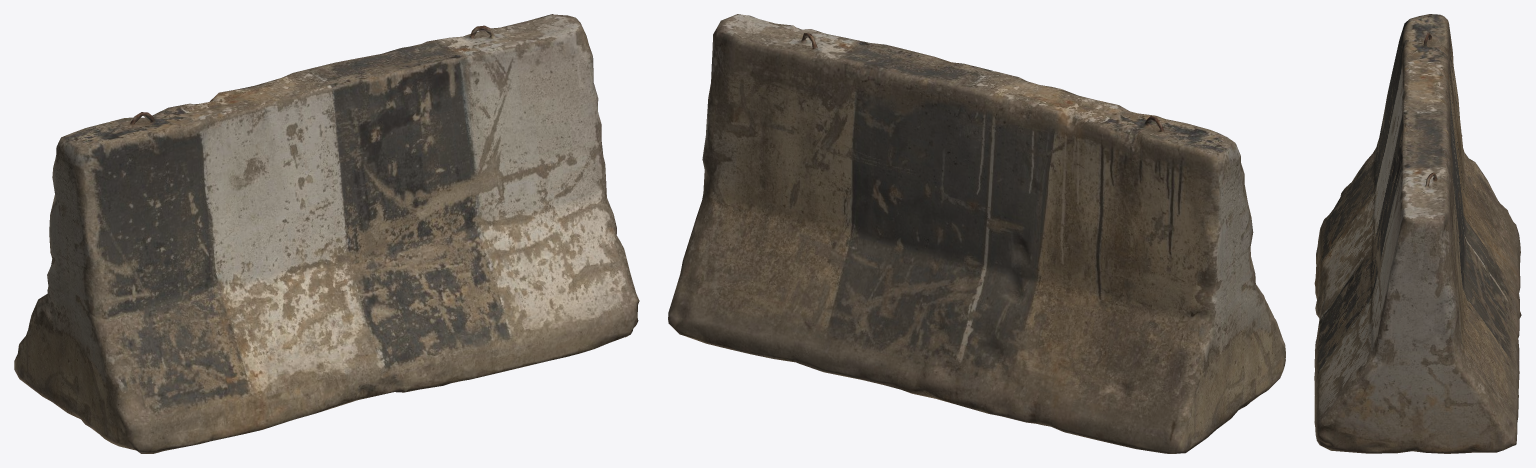
File: barrier.glb
3 views of the same model, side by side, from view 1: azimuth 30°, elevation 25°; view 2: azimuth 150°, elevation 25°; view 3: azimuth 270°, elevation 25° (orthographic). The views are drawn at different scales.
Visible parts, largest first — view 1: barrier; view 2: barrier; view 3: barrier.
Boxes of the visible parts, x1,y1,x2,y2 form: barrier: [14, 14, 639, 453]; barrier: [668, 14, 1285, 453]; barrier: [1314, 14, 1521, 453].
Size of the model in its own units: 1.54 by 0.8297 by 0.6349.
1 material, 1 textured.
